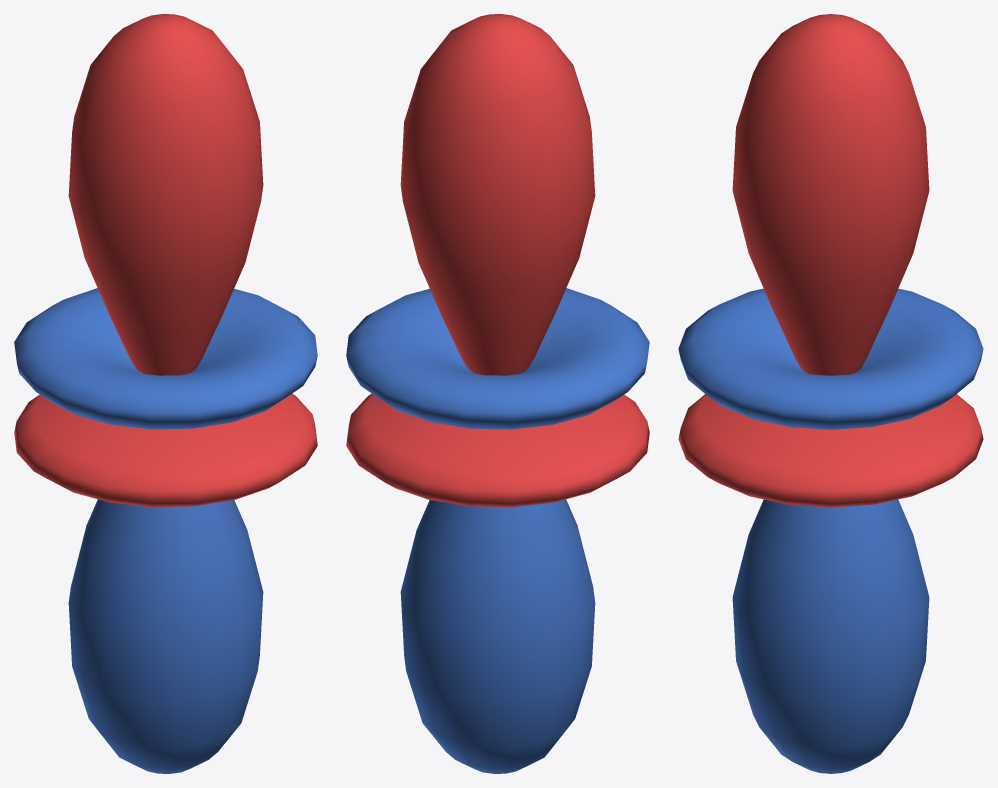
Rendered from Orbital_F_v01.fbx.
3 views of the same model, side by side, from view 1: azimuth 30°, elevation 25°; view 2: azimuth 150°, elevation 25°; view 3: azimuth 270°, elevation 25° (orthographic).
Visible parts, largest first — view 1: Orbital_F; view 2: Orbital_F; view 3: Orbital_F.
Boxes of the visible parts, x1,y1,x2,y2 form: Orbital_F: [14, 14, 317, 773]; Orbital_F: [346, 14, 649, 773]; Orbital_F: [678, 14, 983, 773].
Size of the model in its own units: 152 by 410 by 152.
